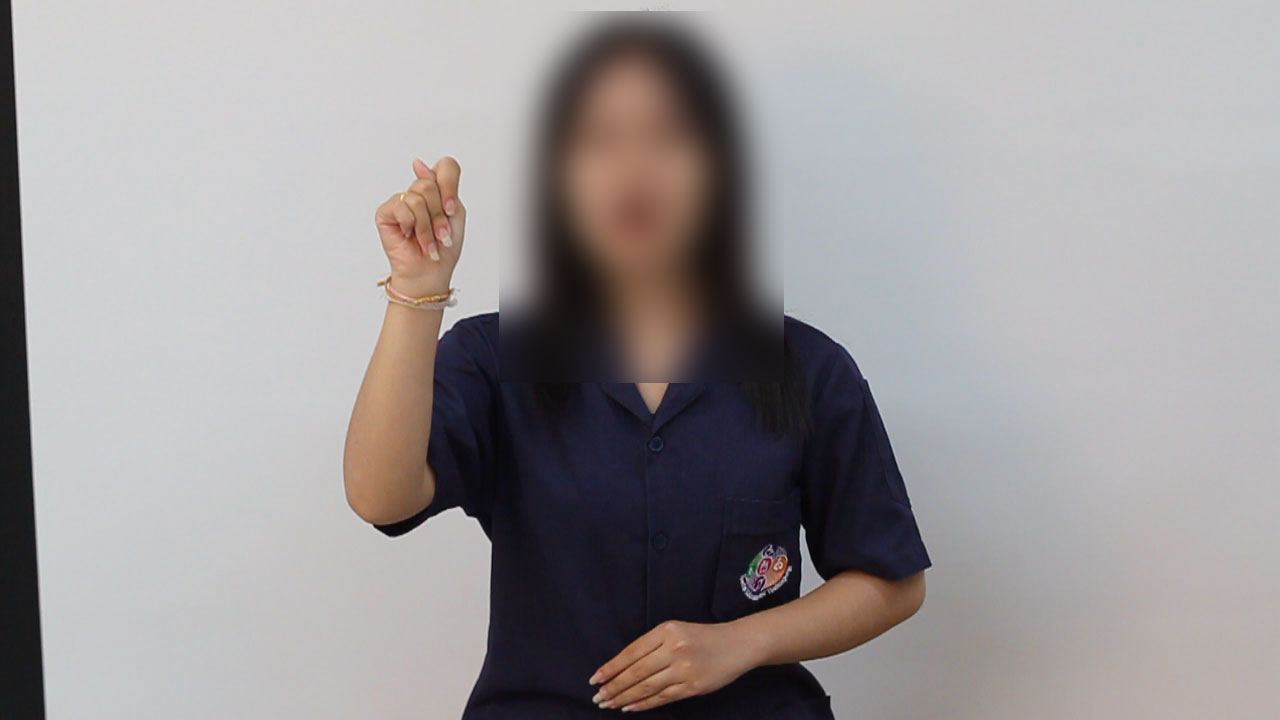tor: (351, 147, 499, 295)
